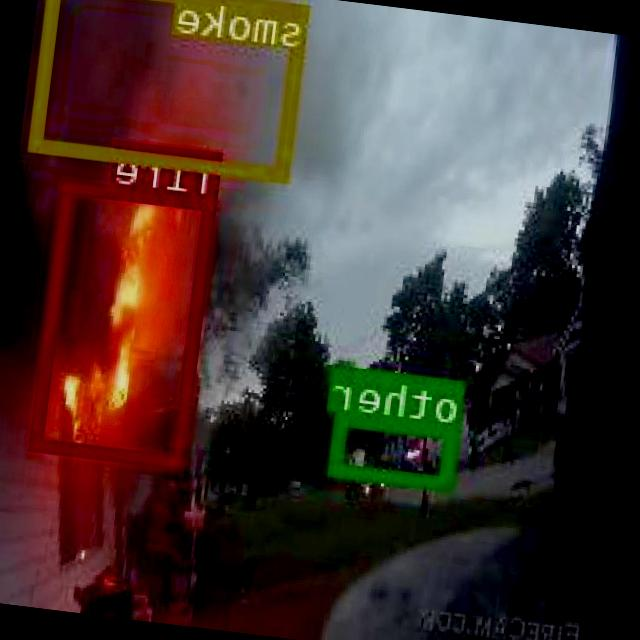fire: (32, 178, 220, 467)
smoke: (31, 0, 311, 179)
